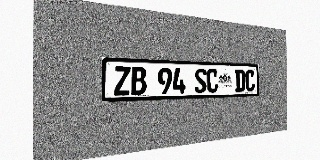4: (172, 68, 185, 94)
9: (158, 67, 172, 94)
B: (131, 67, 146, 95)
C: (207, 69, 218, 93), (245, 70, 255, 92)
D: (235, 69, 245, 92)
S: (194, 68, 206, 93)
Z: (114, 66, 130, 96)
